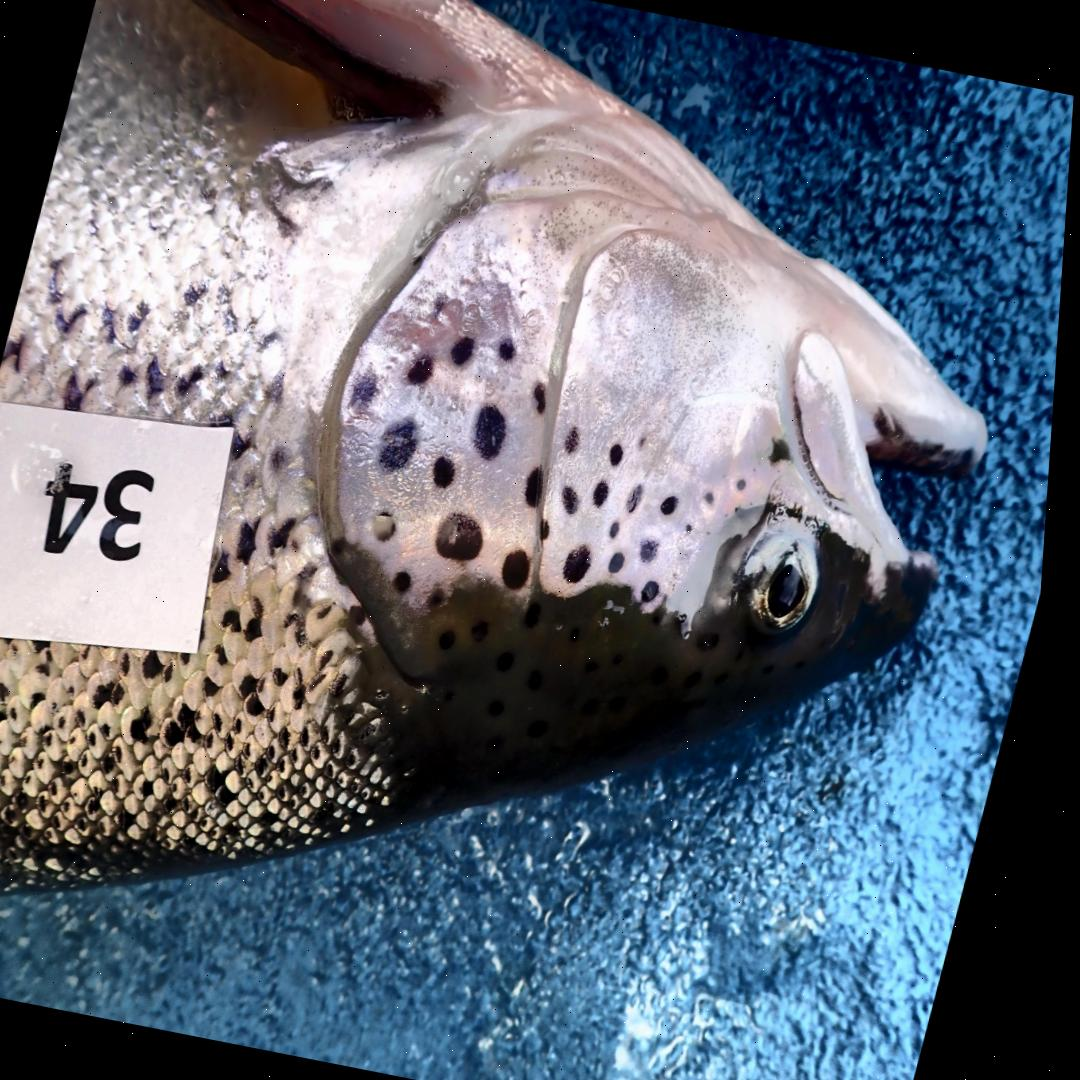spot: (442, 511, 489, 561), (384, 420, 423, 472), (479, 405, 512, 460), (351, 370, 383, 419), (509, 548, 537, 589), (570, 545, 598, 583), (410, 354, 439, 386), (438, 455, 462, 488), (454, 335, 479, 366), (378, 512, 403, 542), (530, 466, 548, 506), (431, 586, 458, 610), (434, 293, 456, 320), (632, 483, 650, 512), (646, 538, 666, 564), (568, 485, 585, 513), (569, 426, 585, 455), (400, 570, 419, 594), (598, 480, 615, 506), (502, 337, 520, 361), (538, 382, 551, 413), (648, 580, 667, 601), (615, 552, 633, 573), (615, 443, 630, 466), (667, 496, 684, 516), (546, 519, 557, 541), (710, 489, 722, 507), (616, 521, 627, 539), (742, 478, 752, 491), (643, 438, 651, 448), (693, 523, 699, 533)
